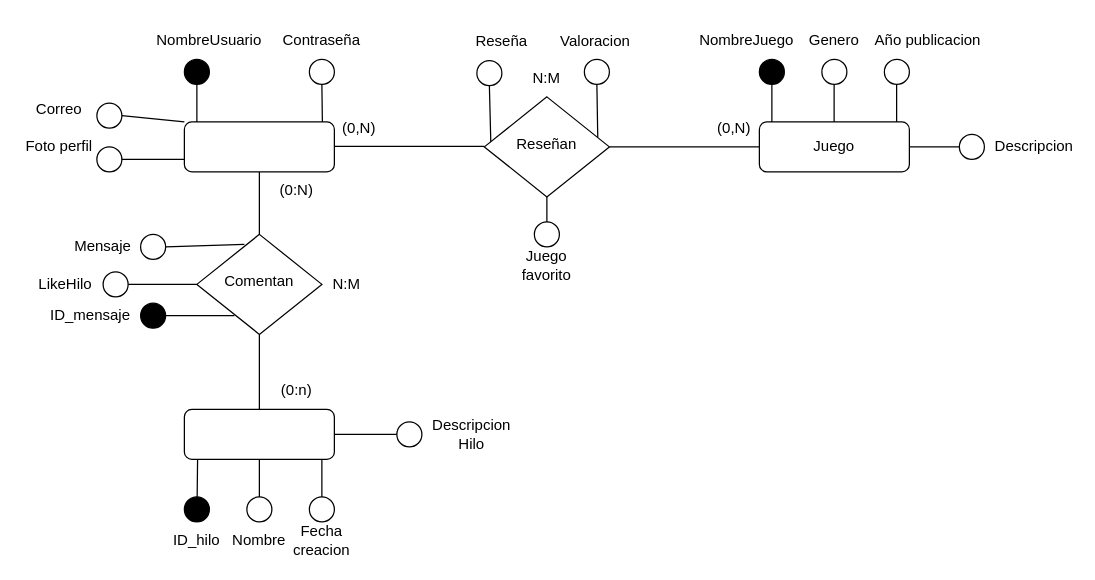
The diagram is 1095 pixels wide and 580 high, and some of its shapes have lost their labels. The shapes that lost their labels are listed below. From the top down, each one's centre as x and y in pixels, then its label:
At (258,146): "Usuarios".
At (258,433): "Hilo".
